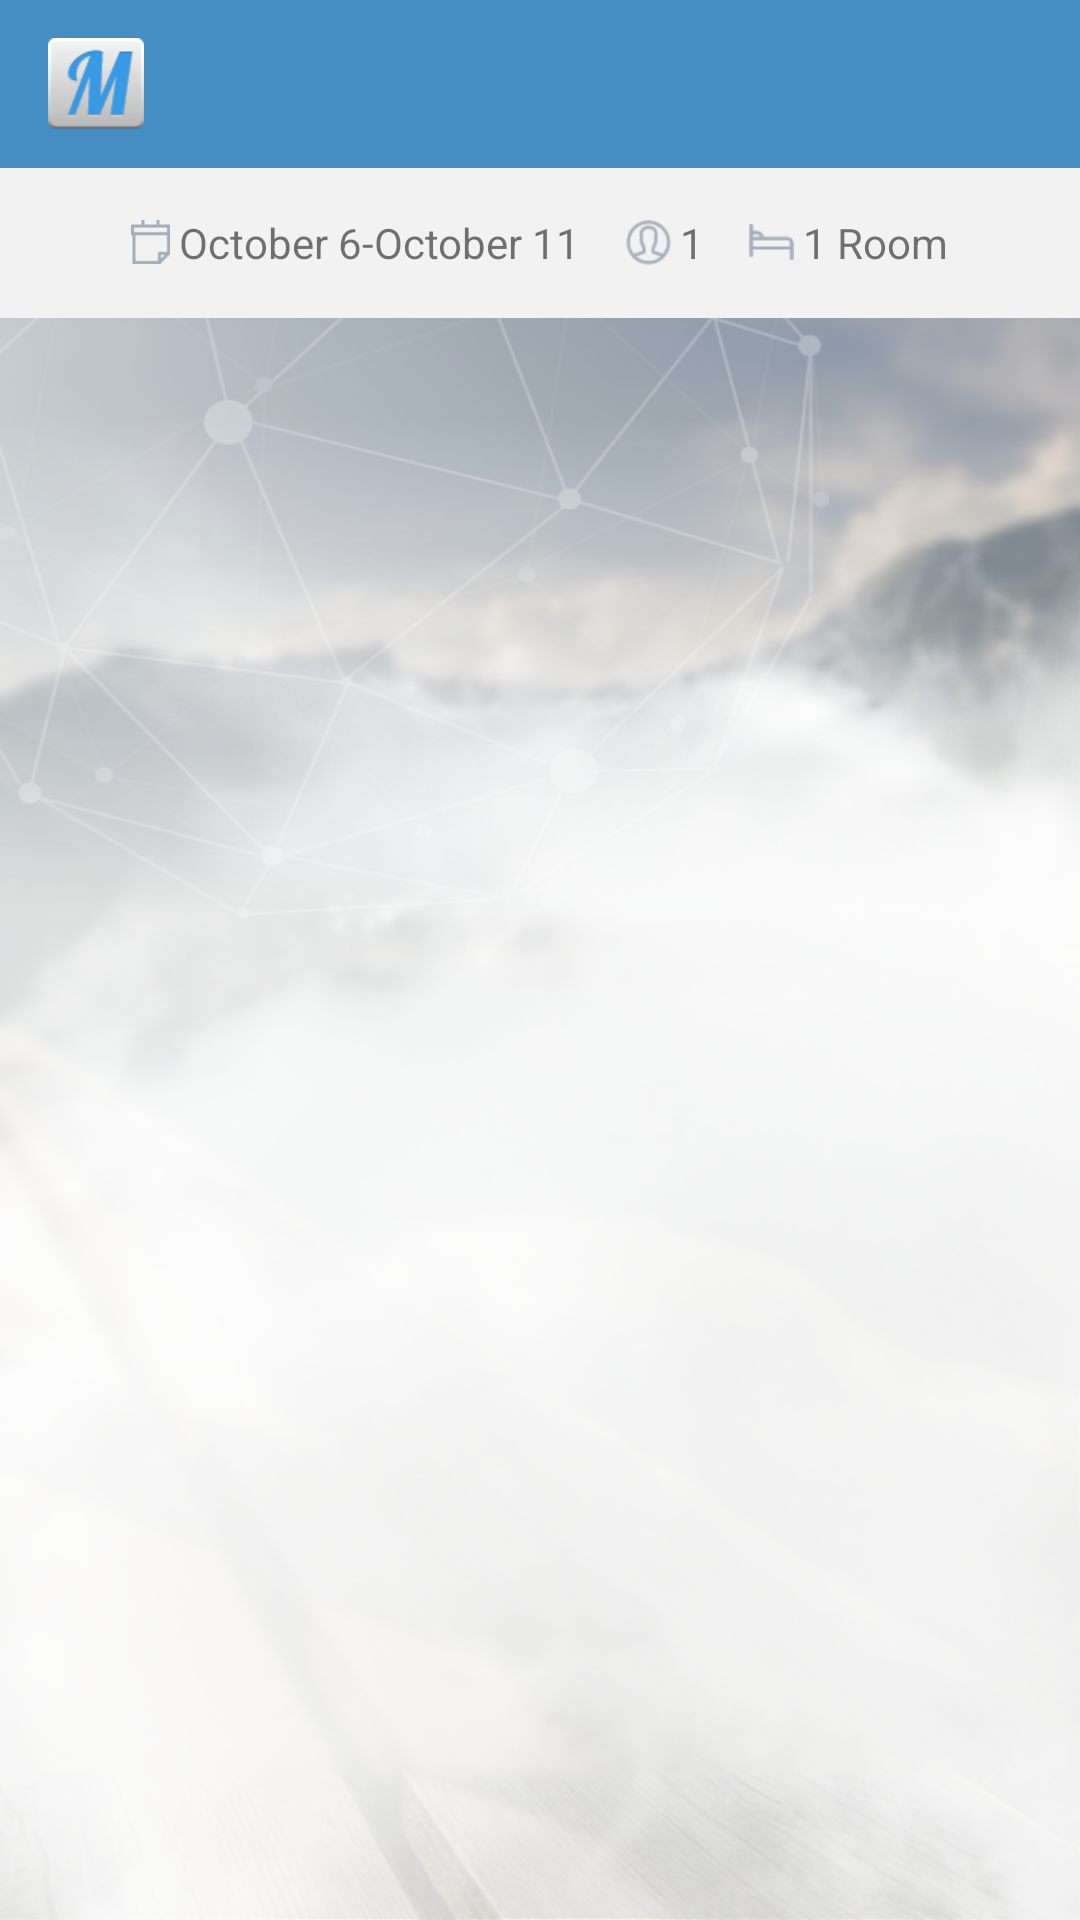

Screen size 1080 x 1920. Icon name, then its box in pixels as (x1, y1, x2, y2):
application: (48, 38, 144, 129)
